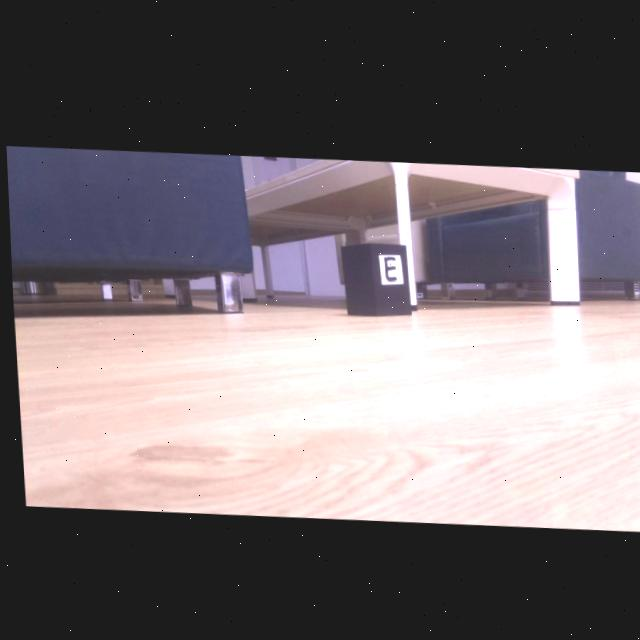E: (381, 252, 394, 276)
